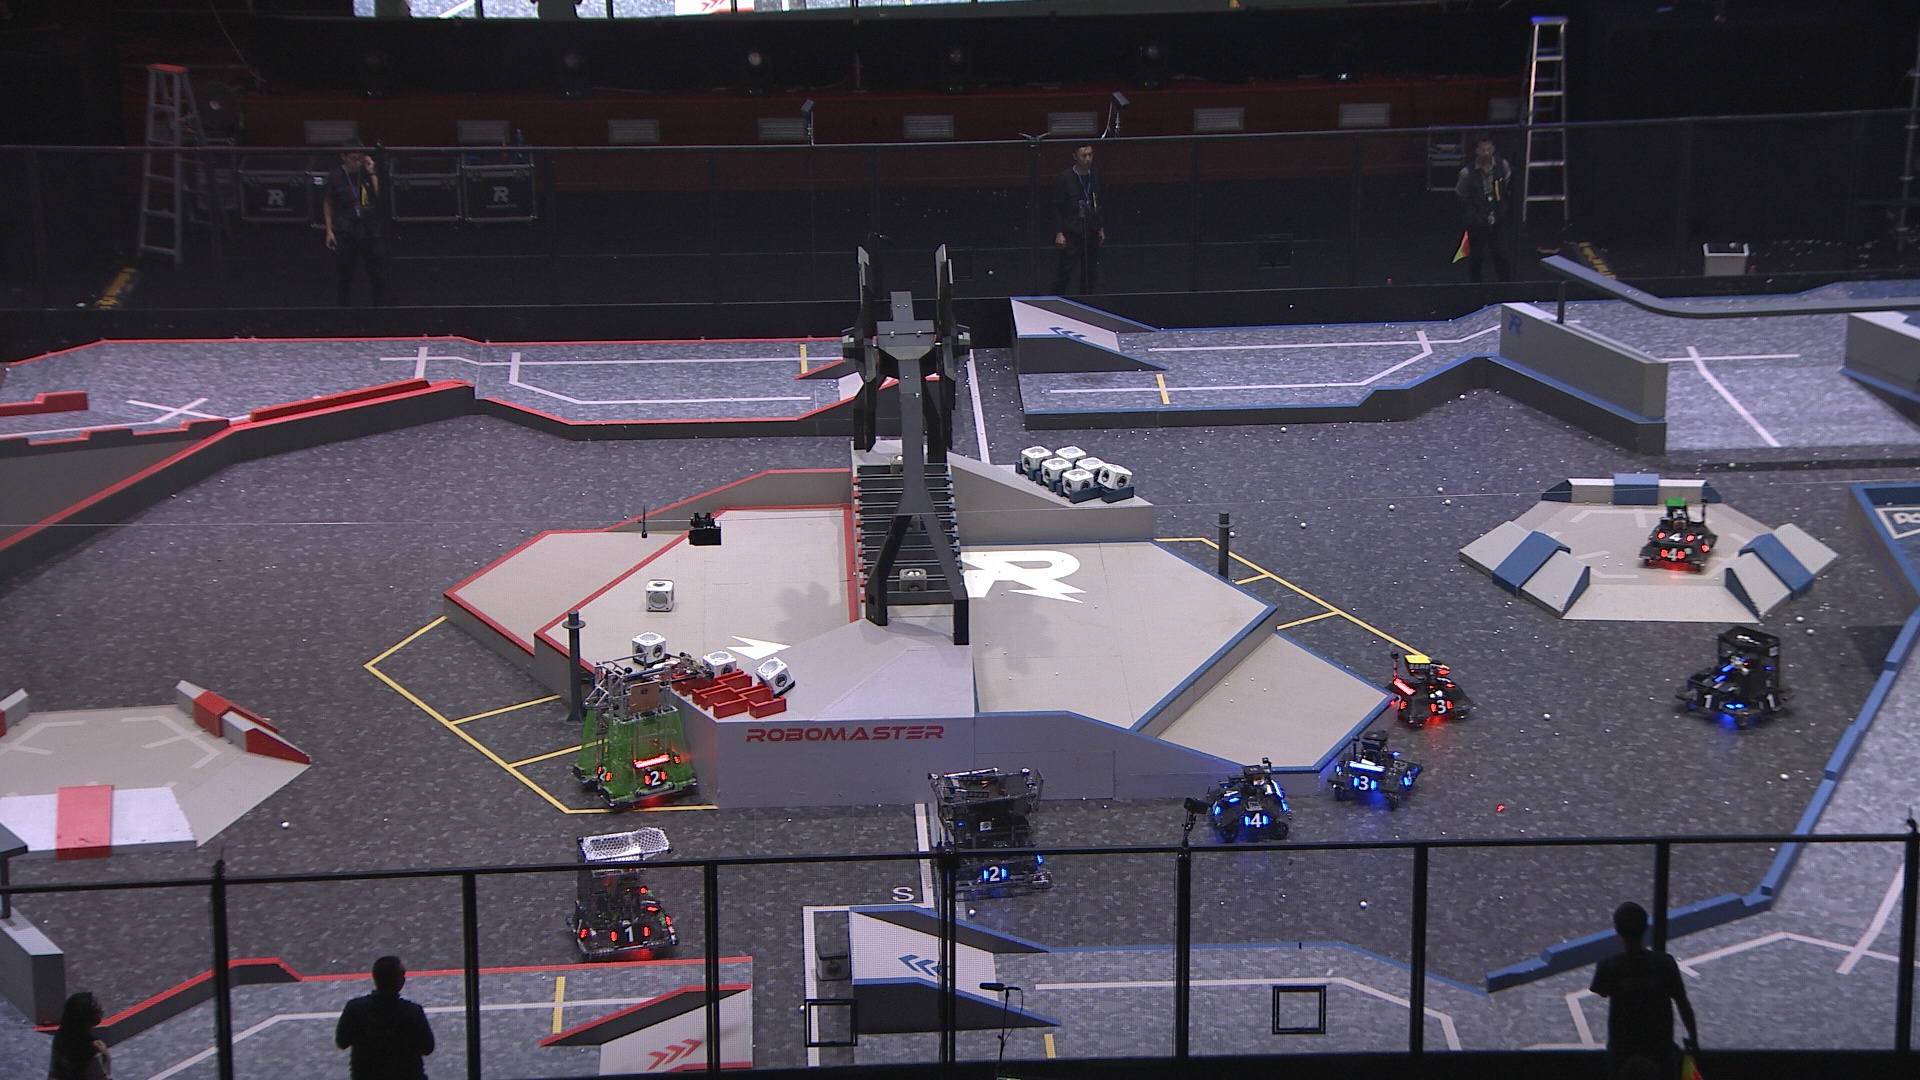armor: (608, 926, 651, 944), (1702, 675, 1738, 695), (1692, 694, 1727, 713), (1756, 690, 1784, 713), (981, 865, 1010, 884), (641, 891, 662, 916), (1658, 531, 1697, 545), (1352, 775, 1379, 794), (645, 769, 667, 789), (1244, 812, 1269, 829), (572, 915, 588, 942), (1429, 698, 1456, 713), (1659, 549, 1689, 562), (1221, 787, 1242, 806), (596, 764, 615, 783), (1390, 694, 1408, 712), (1437, 673, 1455, 690), (1403, 769, 1418, 789), (1209, 800, 1224, 818), (1702, 538, 1714, 556)
car: (571, 651, 700, 808), (927, 766, 1054, 895), (564, 827, 679, 963), (1677, 626, 1793, 737), (1204, 756, 1294, 847), (1327, 728, 1420, 814), (1382, 650, 1477, 735), (1640, 493, 1721, 576)
